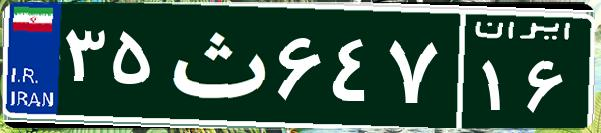1: (475, 38, 525, 113)
3: (57, 26, 110, 107)
4: (330, 28, 385, 110)
5: (110, 28, 158, 105)
6: (273, 28, 330, 110), (525, 38, 570, 115)
7: (385, 28, 445, 110)
ث: (158, 15, 273, 115)
